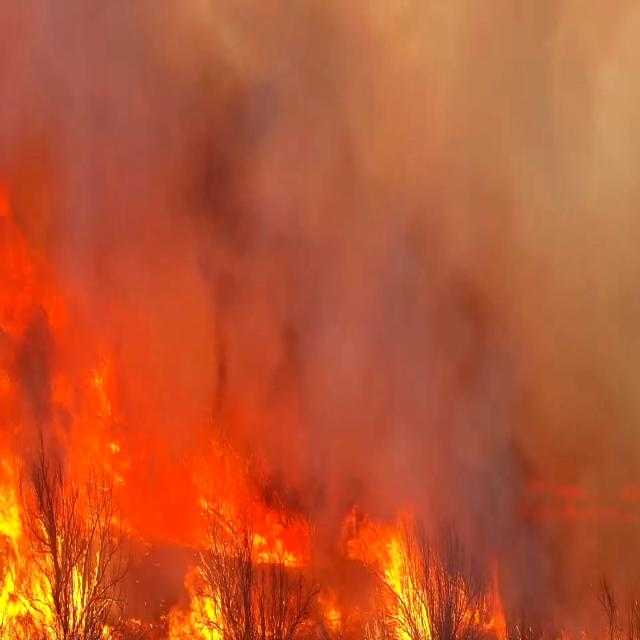fire: (0, 383, 110, 640), (331, 534, 472, 640), (117, 554, 288, 640)
smoke: (0, 0, 502, 368)
